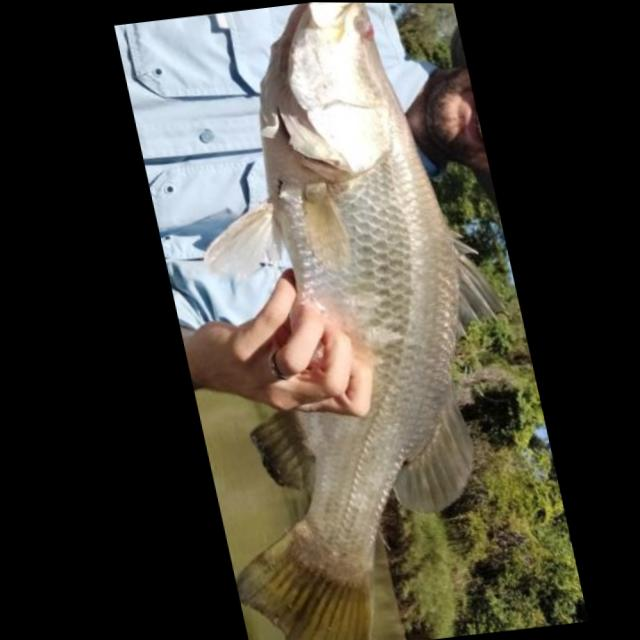Seabass: (110, 1, 572, 640)
